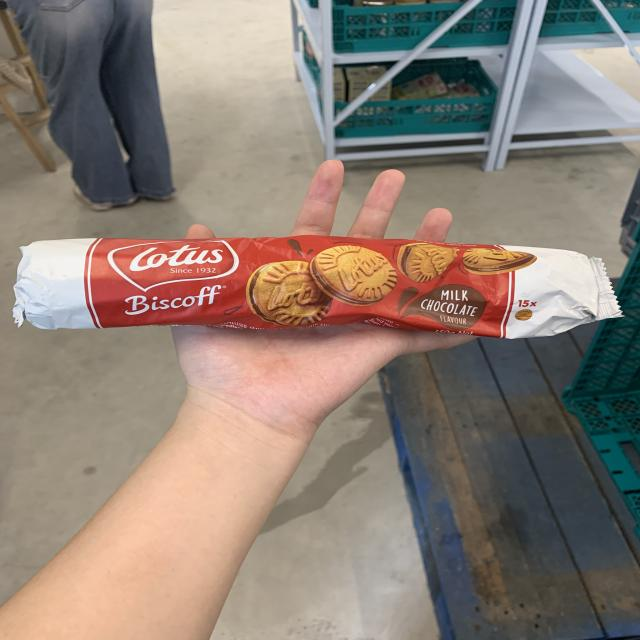object_name: (13, 238, 616, 338)
